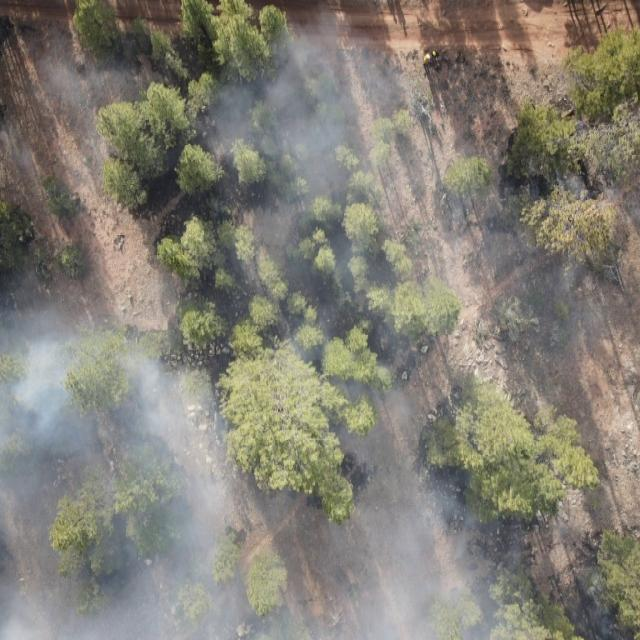smoke: (0, 267, 520, 640), (262, 12, 519, 267), (0, 54, 162, 190), (519, 170, 640, 351), (202, 74, 262, 267), (565, 570, 633, 640)
